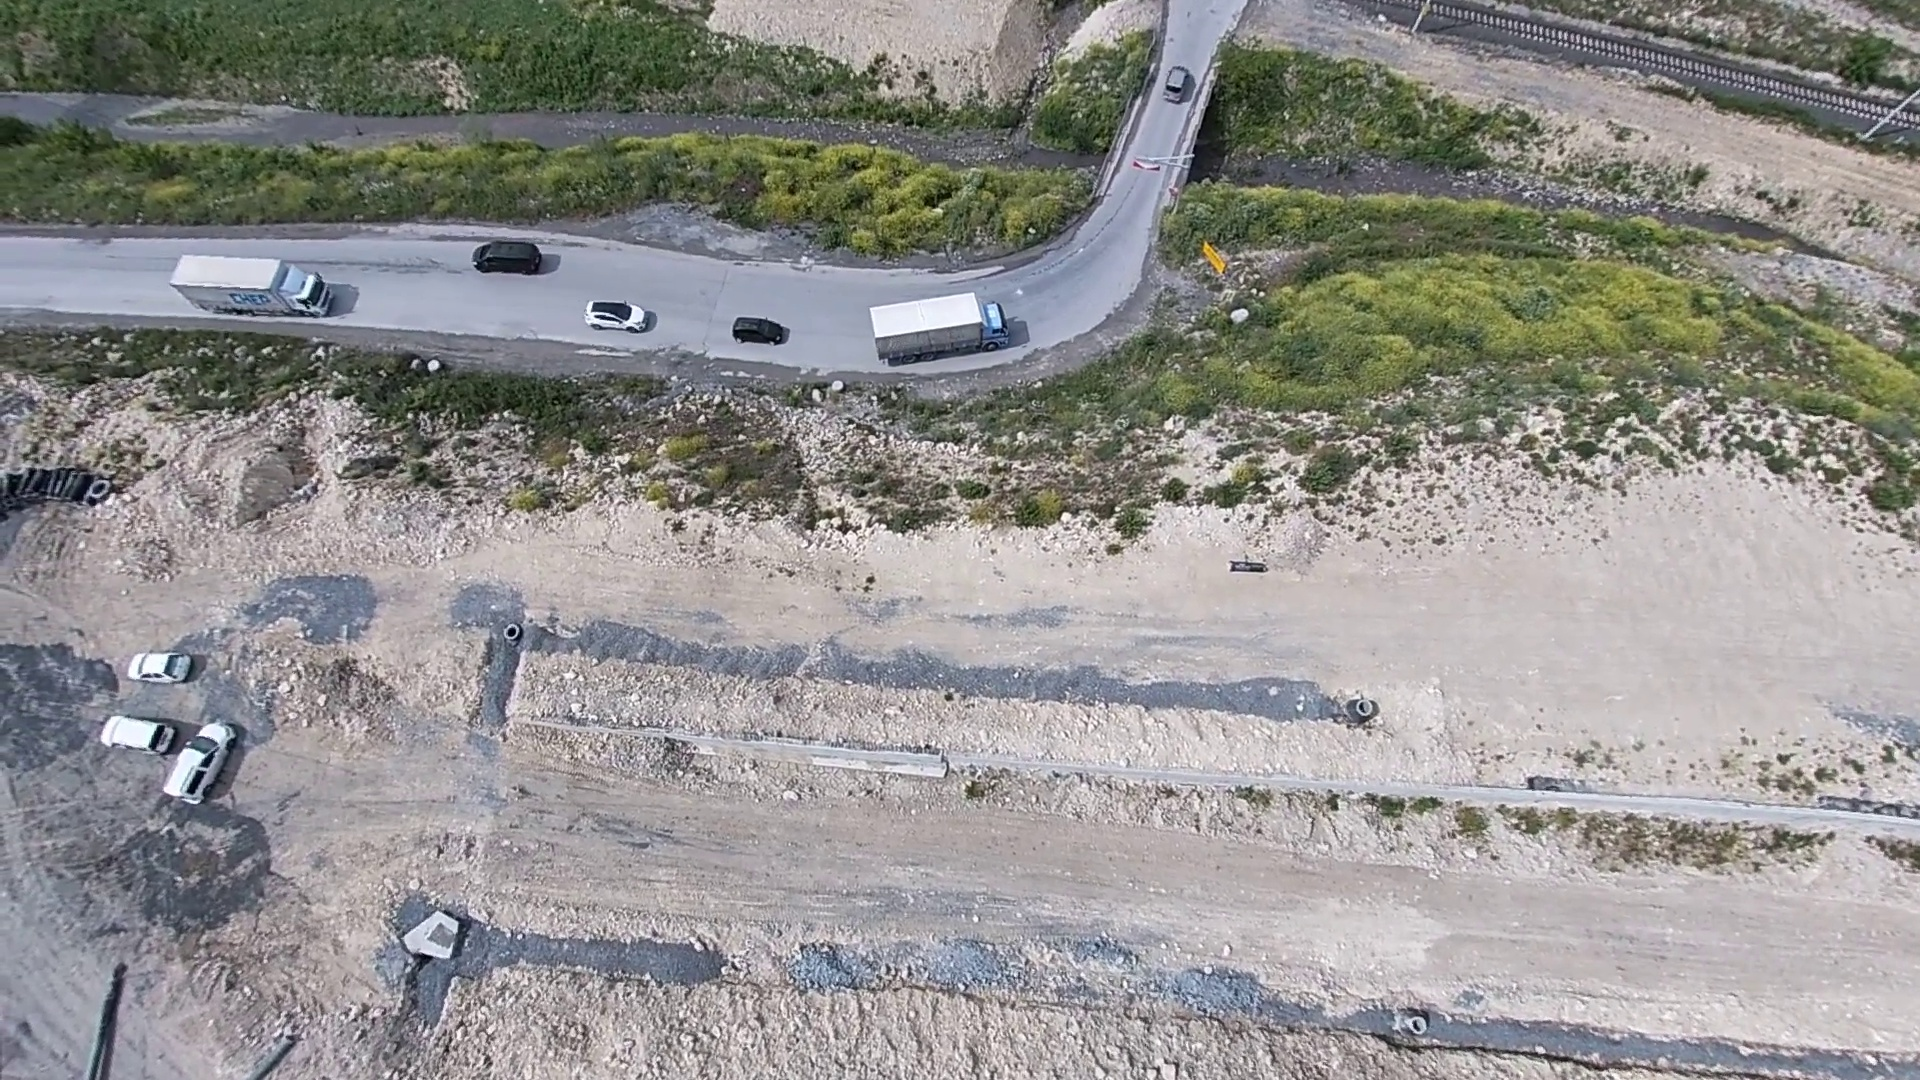arac: (165, 252, 340, 316), (865, 291, 1007, 364), (160, 712, 256, 808), (95, 709, 171, 764), (468, 231, 547, 278), (127, 647, 193, 687), (582, 294, 647, 332), (727, 313, 785, 342), (1160, 65, 1196, 105)
